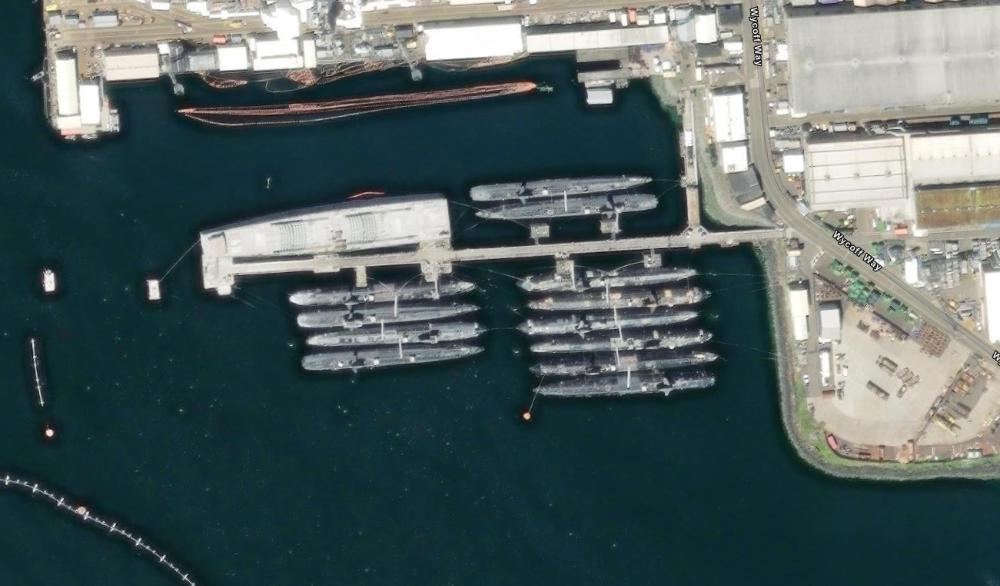submarine: (451, 152, 668, 204), (522, 369, 723, 425), (290, 343, 488, 393), (511, 255, 715, 296), (282, 277, 491, 308), (514, 308, 723, 335), (511, 336, 739, 356)
